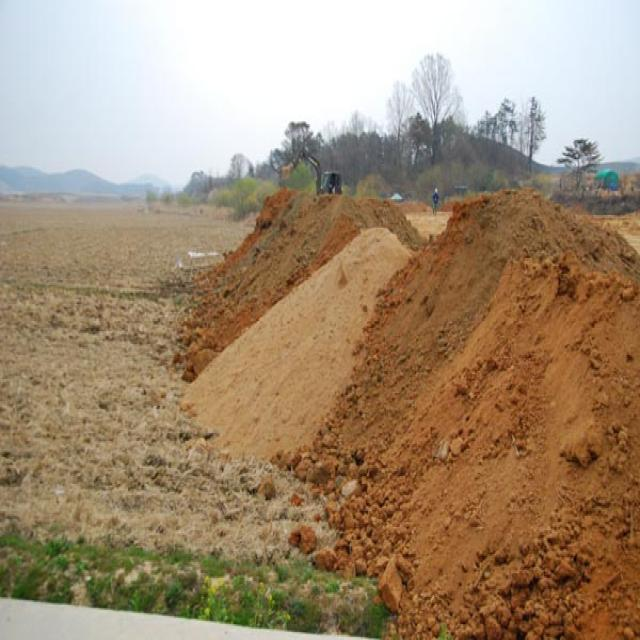red-sand: (173, 188, 639, 638)
white-sand: (0, 202, 319, 559)
